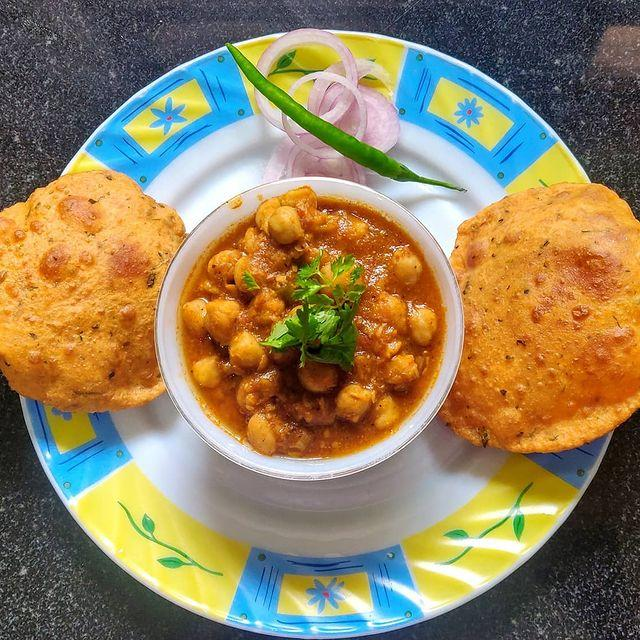Chole: (198, 186, 426, 452)
